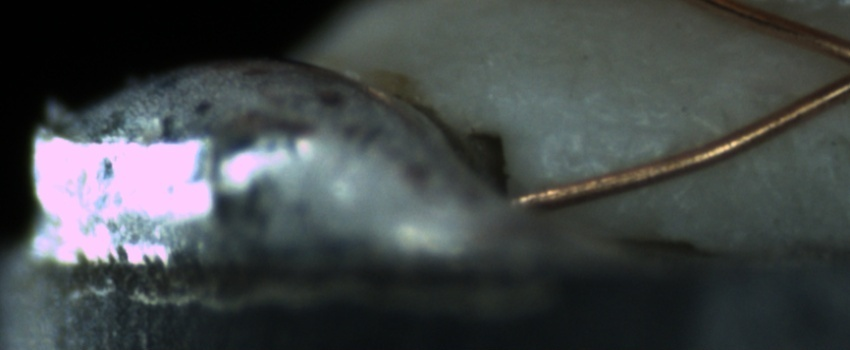DL: (546, 99, 684, 157)
